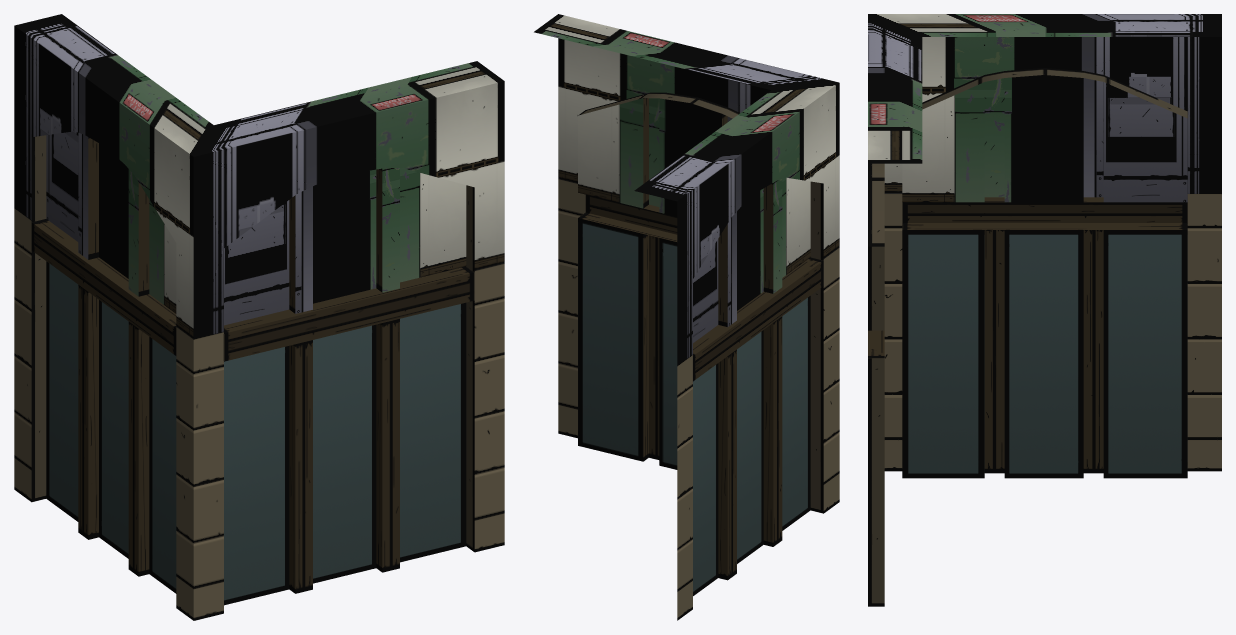
Rendered from mod_env_city_building_city_city_building01_facade_outer_corner01.fbx.
3 renders of one model, left to right at view 1: azimuth 30°, elevation 25°; view 2: azimuth 150°, elevation 25°; view 3: azimuth 270°, elevation 25°, orthographic. The views are drawn at different scales.
Parts seen in each view (by area): view 1: mod_env_building_facade_outer_corner01; view 2: mod_env_building_facade_outer_corner01; view 3: mod_env_building_facade_outer_corner01.
Boxes of the visible parts, bbox=[...] form: mod_env_building_facade_outer_corner01: bbox=[14, 14, 504, 620]; mod_env_building_facade_outer_corner01: bbox=[534, 14, 839, 620]; mod_env_building_facade_outer_corner01: bbox=[868, 14, 1221, 606].
Bounding box in the file's own units: 400 × 570 × 400.
